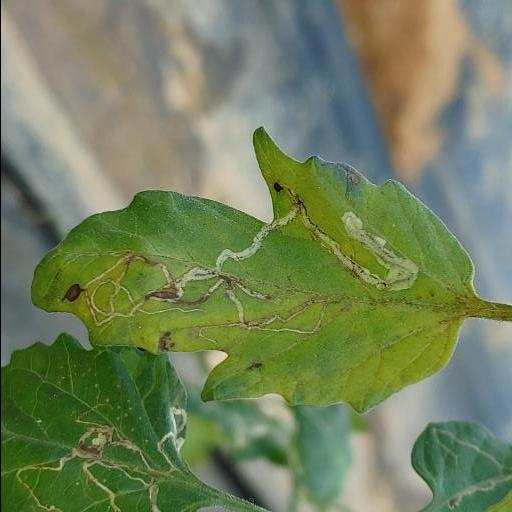Leaf Miner: (30, 124, 473, 416)
